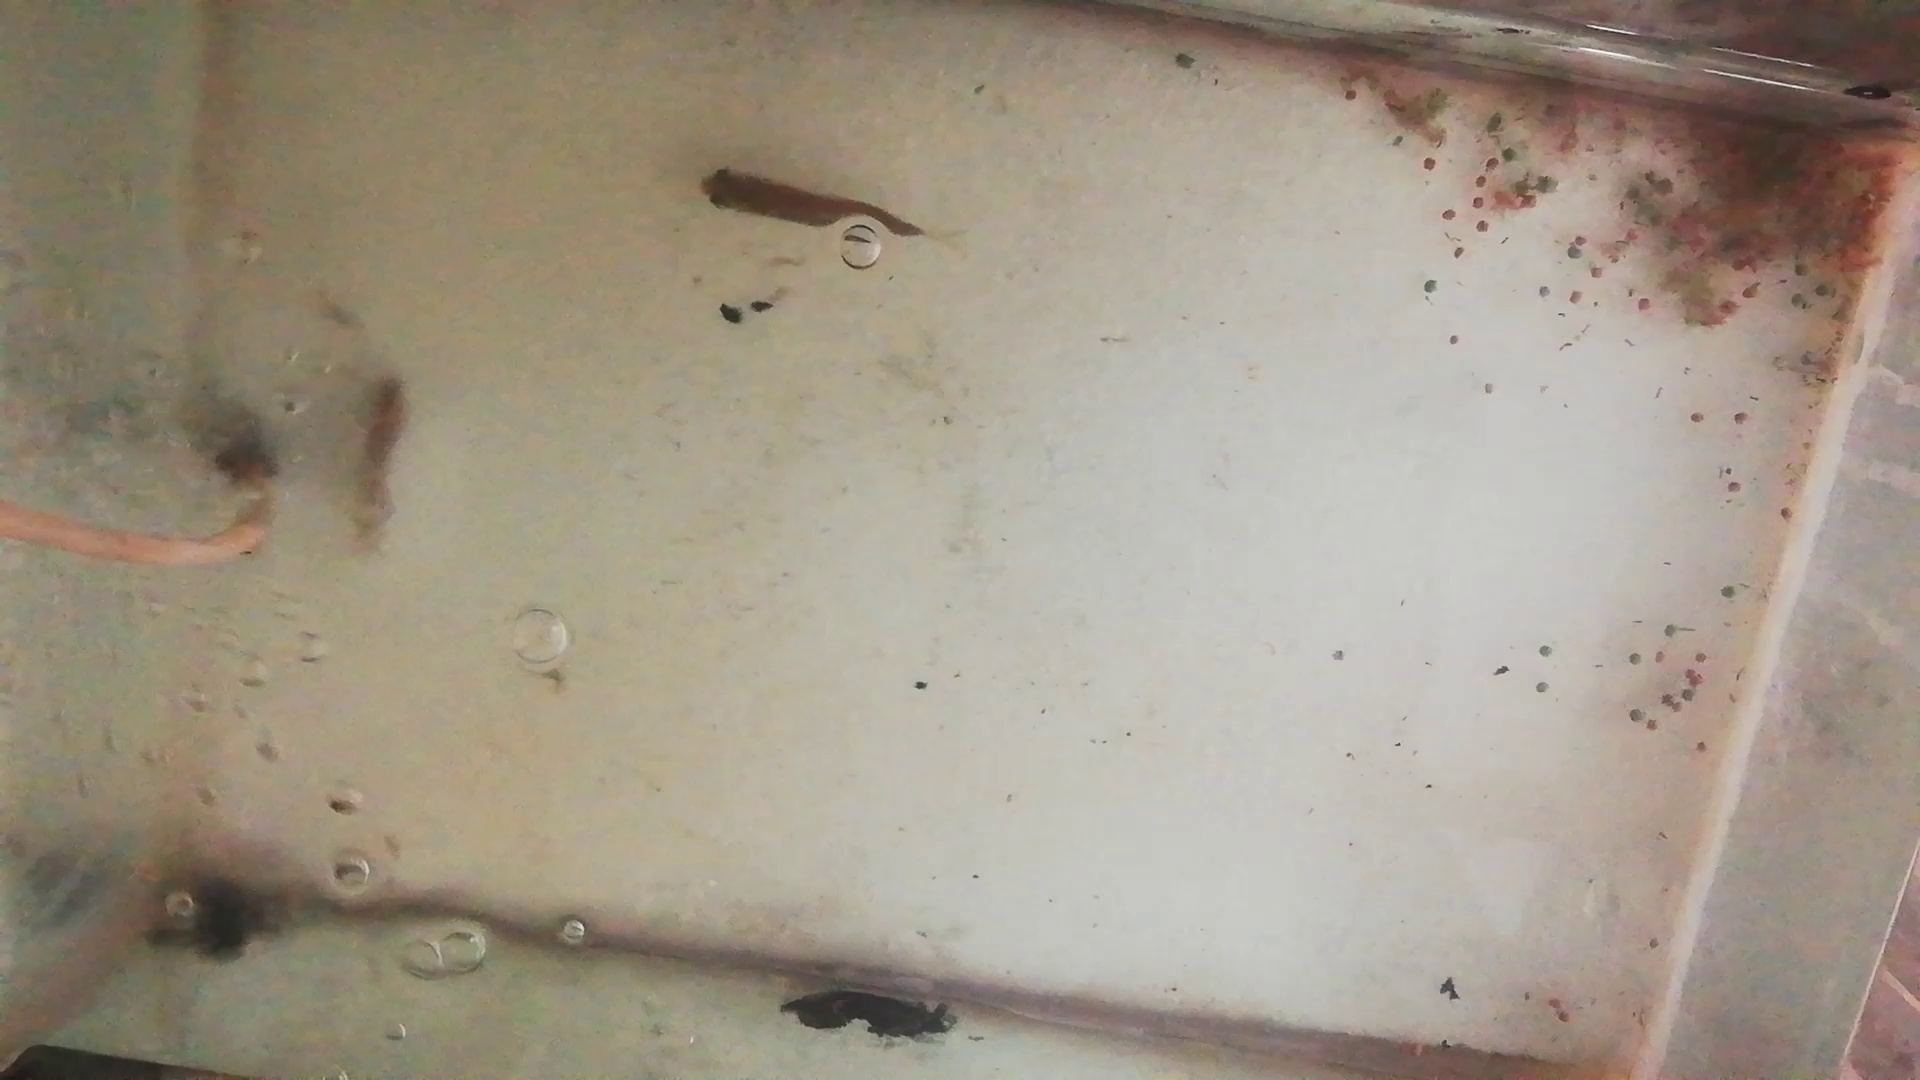fish: (691, 162, 926, 257), (357, 369, 411, 563)
